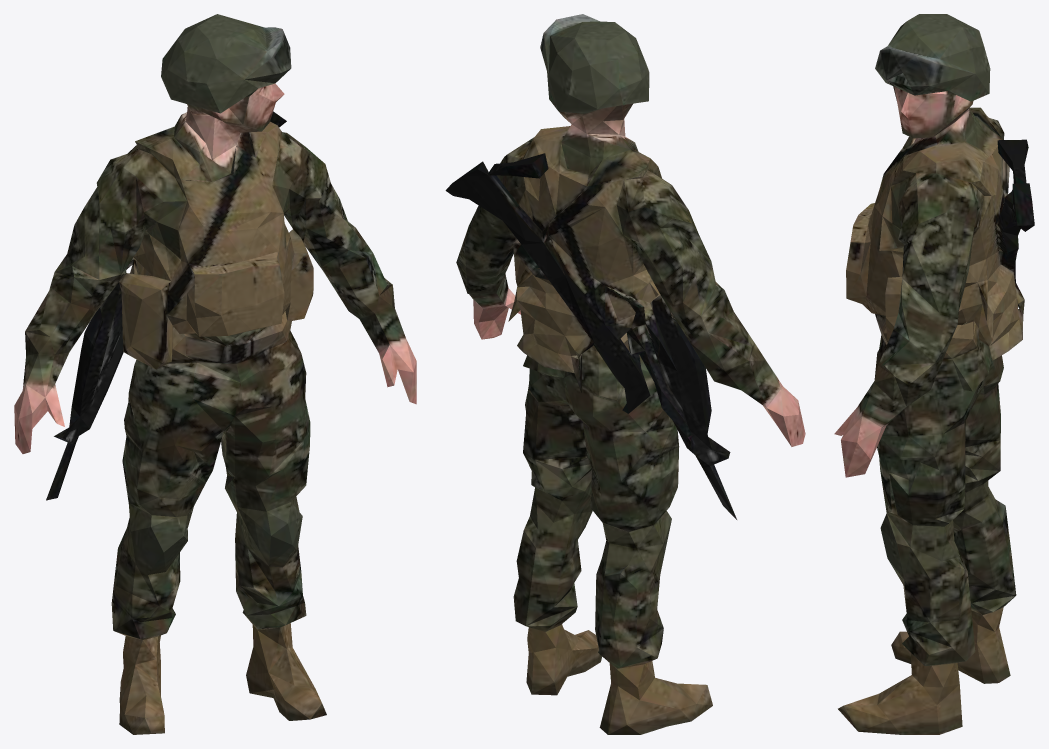
File: realistic-cc0.f77cec64a90b.marine.glb
3 views of the same model, side by side, from view 1: azimuth 30°, elevation 25°; view 2: azimuth 150°, elevation 25°; view 3: azimuth 270°, elevation 25° (orthographic).
Parts seen in each view (by area): view 1: marine; view 2: marine; view 3: marine.
Boxes of the visible parts, x1,y1,x2,y2 form: marine: (14, 14, 416, 734); marine: (445, 14, 805, 734); marine: (834, 14, 1034, 734).
Bounding box in the file's own units: 1 × 1.8 × 0.4817.
Materials: 1 (1 with a texture image).
